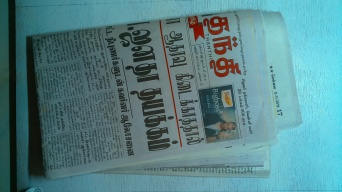p: (24, 8, 294, 185)
